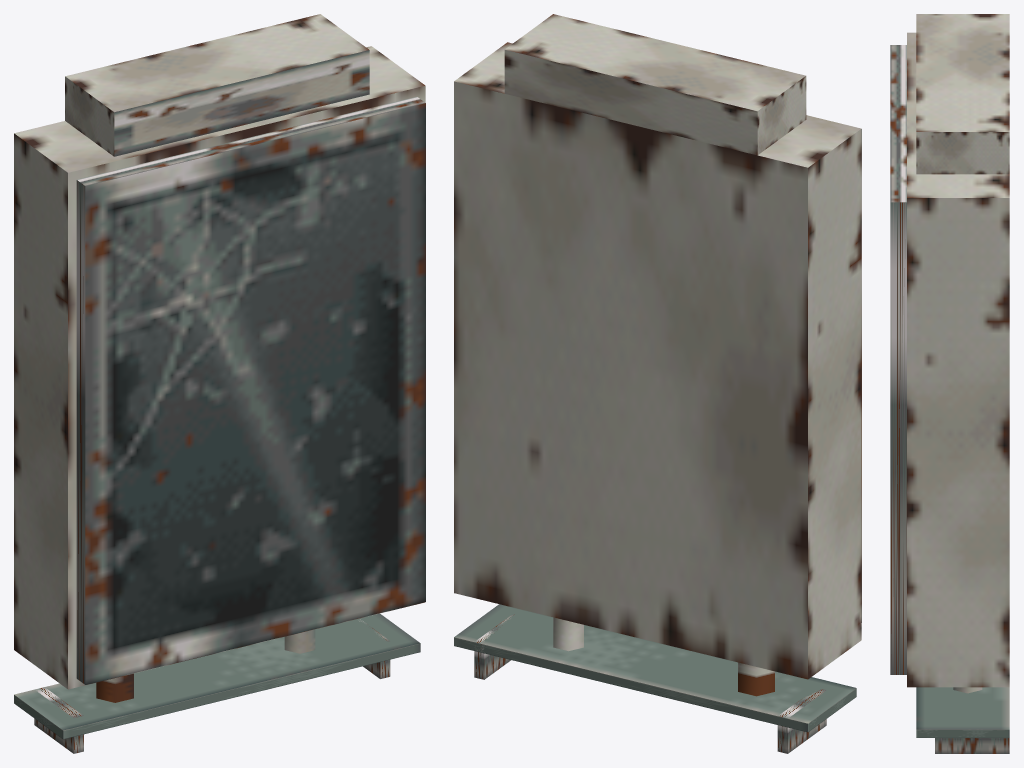
The model's file is medicine_cabinet.obj.
3 renders of one model, left to right at view 1: azimuth 30°, elevation 25°; view 2: azimuth 150°, elevation 25°; view 3: azimuth 270°, elevation 25°, orthographic. The views are drawn at different scales.
Visible parts, largest first — view 1: medicine_cabinet; view 2: medicine_cabinet; view 3: medicine_cabinet.
Boxes of the visible parts, x1=… form: medicine_cabinet: x1=14, y1=14, x2=425, y2=753; medicine_cabinet: x1=454, y1=14, x2=861, y2=753; medicine_cabinet: x1=890, y1=14, x2=1009, y2=753.
Size of the model in its own units: 0.42 by 0.72 by 0.128.
Materials: 1 (1 with a texture image).
